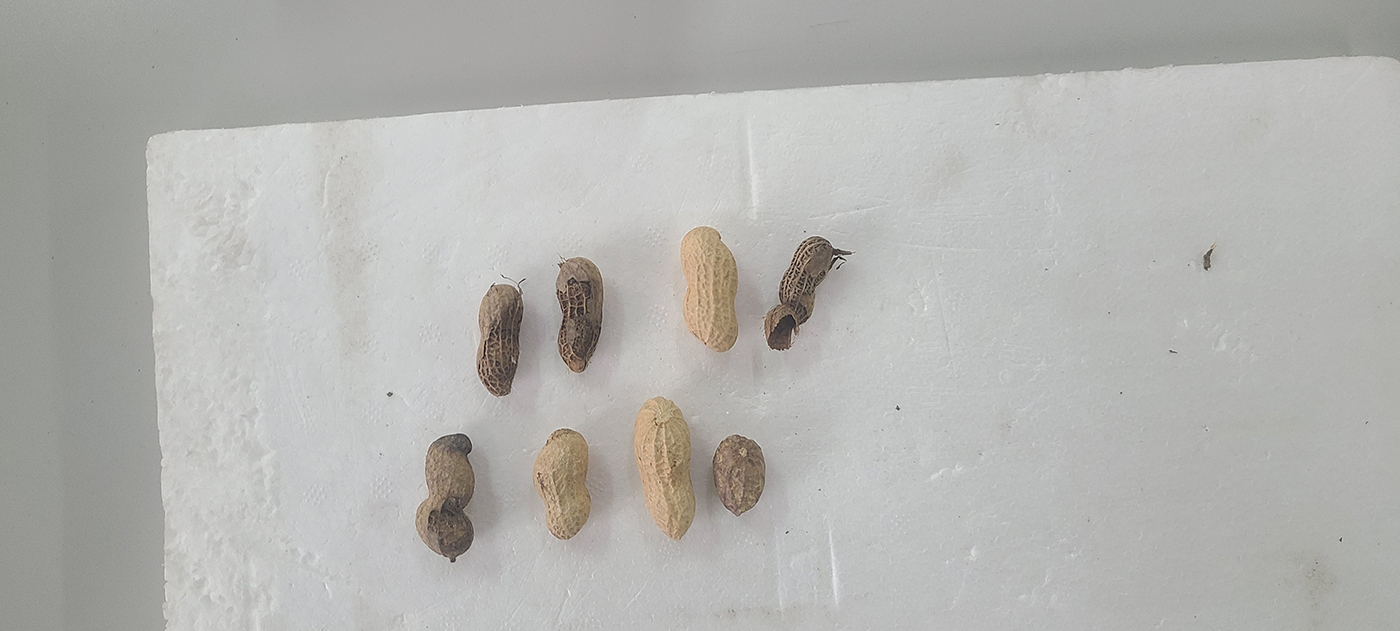h: (634, 396, 695, 540), (680, 227, 740, 352), (533, 427, 593, 539)
l: (764, 237, 836, 350), (415, 432, 476, 559), (556, 257, 604, 374), (475, 283, 523, 398), (712, 433, 765, 517)
